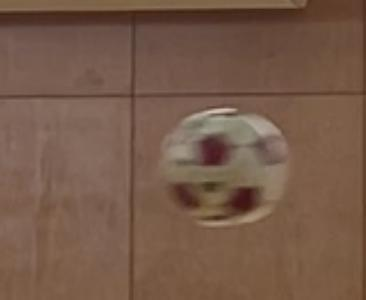Sports-Ball: (163, 106, 290, 225)
